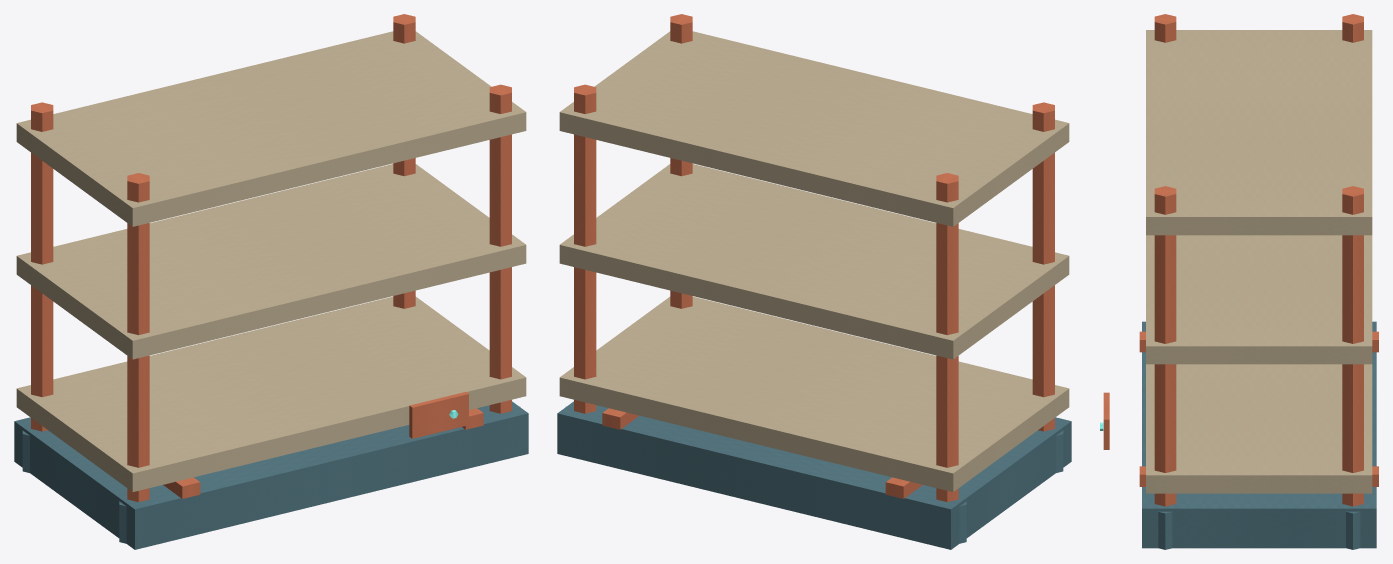
File: atlas100-s041-a06.lod1.glb
The picture shows the model from 3 angles, left to right: view 1: azimuth 30°, elevation 25°; view 2: azimuth 150°, elevation 25°; view 3: azimuth 270°, elevation 25°; orthographic projection. The views are drawn at different scales.
Visible parts, largest first — view 1: atlas100-s041-a06:part-013, atlas100-s041-a06:part-012, atlas100-s041-a06:part-011, atlas100-s041-a06:part-000, atlas100-s041-a06:part-005, atlas100-s041-a06:part-009, atlas100-s041-a06:part-003, atlas100-s041-a06:part-014, atlas100-s041-a06:part-007; view 2: atlas100-s041-a06:part-013, atlas100-s041-a06:part-012, atlas100-s041-a06:part-011, atlas100-s041-a06:part-000, atlas100-s041-a06:part-003, atlas100-s041-a06:part-007, atlas100-s041-a06:part-005, atlas100-s041-a06:part-009; view 3: atlas100-s041-a06:part-013, atlas100-s041-a06:part-012, atlas100-s041-a06:part-011, atlas100-s041-a06:part-000, atlas100-s041-a06:part-009, atlas100-s041-a06:part-007, atlas100-s041-a06:part-005, atlas100-s041-a06:part-003, atlas100-s041-a06:part-008, atlas100-s041-a06:part-010, atlas100-s041-a06:part-014.
Part boxes in pixels (box(x1,y1,x2,y2)): atlas100-s041-a06:part-013: box(16, 31, 526, 226); atlas100-s041-a06:part-012: box(16, 164, 526, 359); atlas100-s041-a06:part-011: box(16, 296, 526, 491); atlas100-s041-a06:part-000: box(14, 401, 528, 549); atlas100-s041-a06:part-005: box(127, 173, 149, 502); atlas100-s041-a06:part-009: box(489, 84, 511, 413); atlas100-s041-a06:part-003: box(31, 102, 53, 431); atlas100-s041-a06:part-014: box(409, 392, 468, 438); atlas100-s041-a06:part-007: box(393, 14, 415, 308); atlas100-s041-a06:part-013: box(559, 31, 1069, 226); atlas100-s041-a06:part-012: box(559, 164, 1069, 359); atlas100-s041-a06:part-011: box(559, 296, 1069, 491); atlas100-s041-a06:part-000: box(557, 401, 1071, 549); atlas100-s041-a06:part-003: box(936, 173, 958, 502); atlas100-s041-a06:part-007: box(574, 84, 596, 413); atlas100-s041-a06:part-005: box(1032, 102, 1054, 431); atlas100-s041-a06:part-009: box(670, 14, 692, 308); atlas100-s041-a06:part-013: box(1146, 30, 1372, 235); atlas100-s041-a06:part-012: box(1146, 235, 1372, 364); atlas100-s041-a06:part-011: box(1146, 364, 1372, 493); atlas100-s041-a06:part-000: box(1142, 321, 1376, 548); atlas100-s041-a06:part-009: box(1154, 186, 1176, 506); atlas100-s041-a06:part-007: box(1342, 186, 1363, 506); atlas100-s041-a06:part-005: box(1154, 14, 1176, 42); atlas100-s041-a06:part-003: box(1342, 14, 1363, 42); atlas100-s041-a06:part-008: box(1346, 511, 1360, 549); atlas100-s041-a06:part-010: box(1158, 511, 1172, 549); atlas100-s041-a06:part-014: box(1103, 392, 1109, 449).
Bounding box in the file's own units: 2.69 × 2.3 × 1.66.
4 materials, 4 textured.
